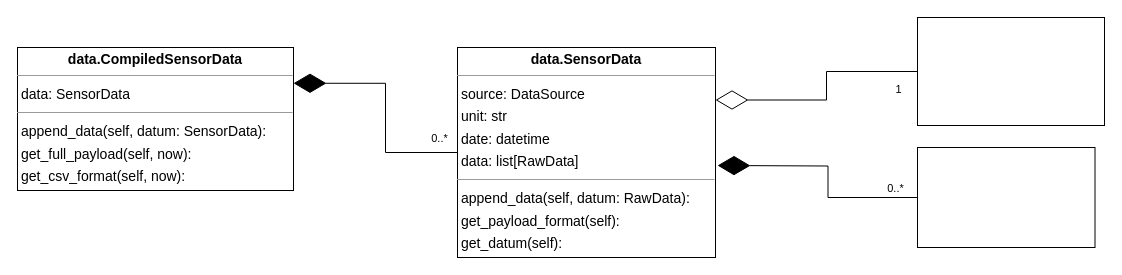
The diagram is 1122 pixels wide and 275 high, and some of its shapes have lost their labels. Here are the shapes that lost their labels. From the top down, the centre of each, then its label:
At point 1010,71: "<<enumeration>> data.DataSource - DIGITAL_RAIN_GAUGE - DIGITAL_STAFF_GAUGE".
At point 1005,197: "data.RawData format: datum: float | NoneType".
